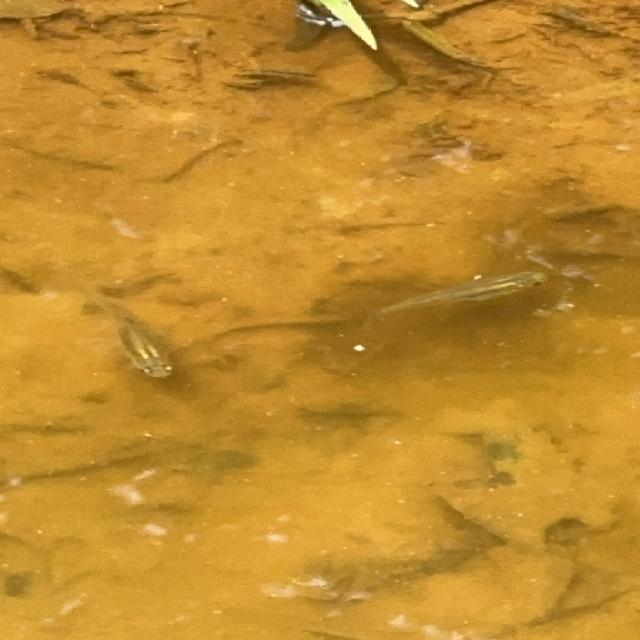Sivrisinek Baligi: (383, 266, 558, 316), (98, 295, 185, 380)
